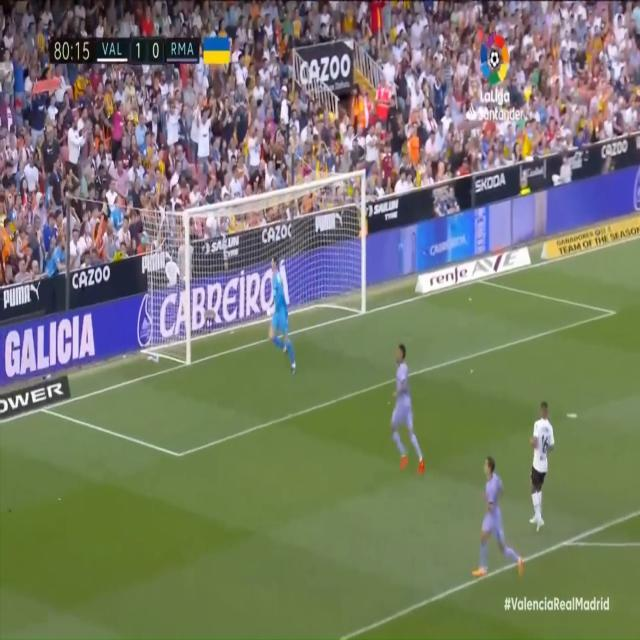goalkeeper: (268, 252, 300, 377)
player: (476, 451, 525, 577), (387, 334, 427, 474), (528, 393, 560, 537)
